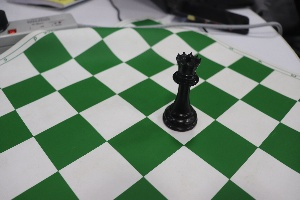black_queen: (163, 42, 201, 136)
